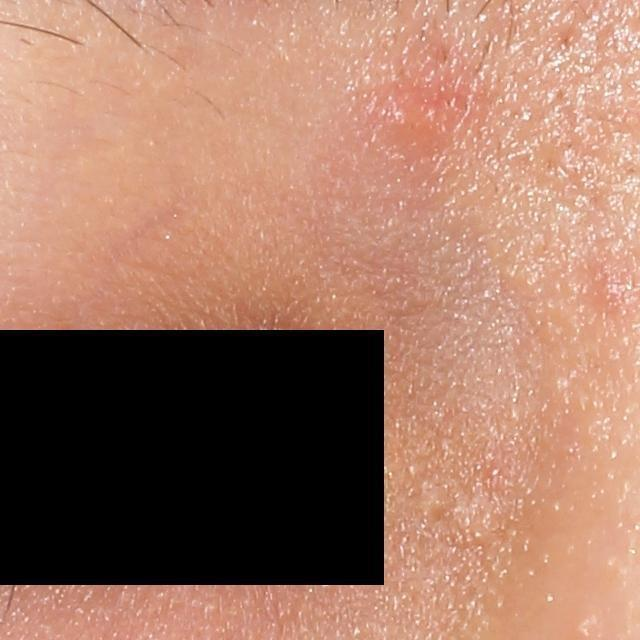comedo: (570, 612, 588, 637)
